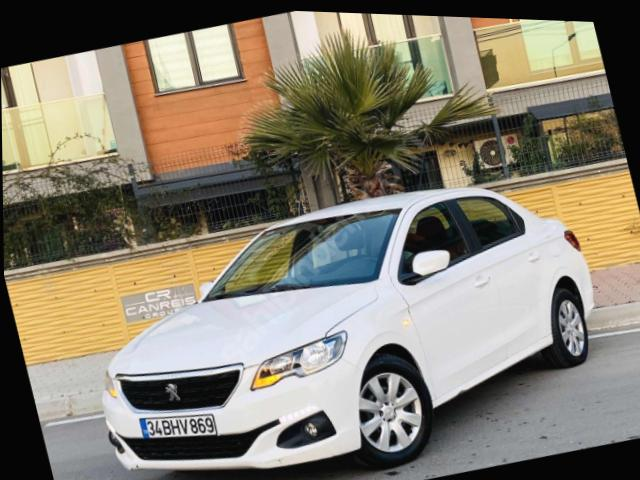plaka: (139, 414, 217, 438)
